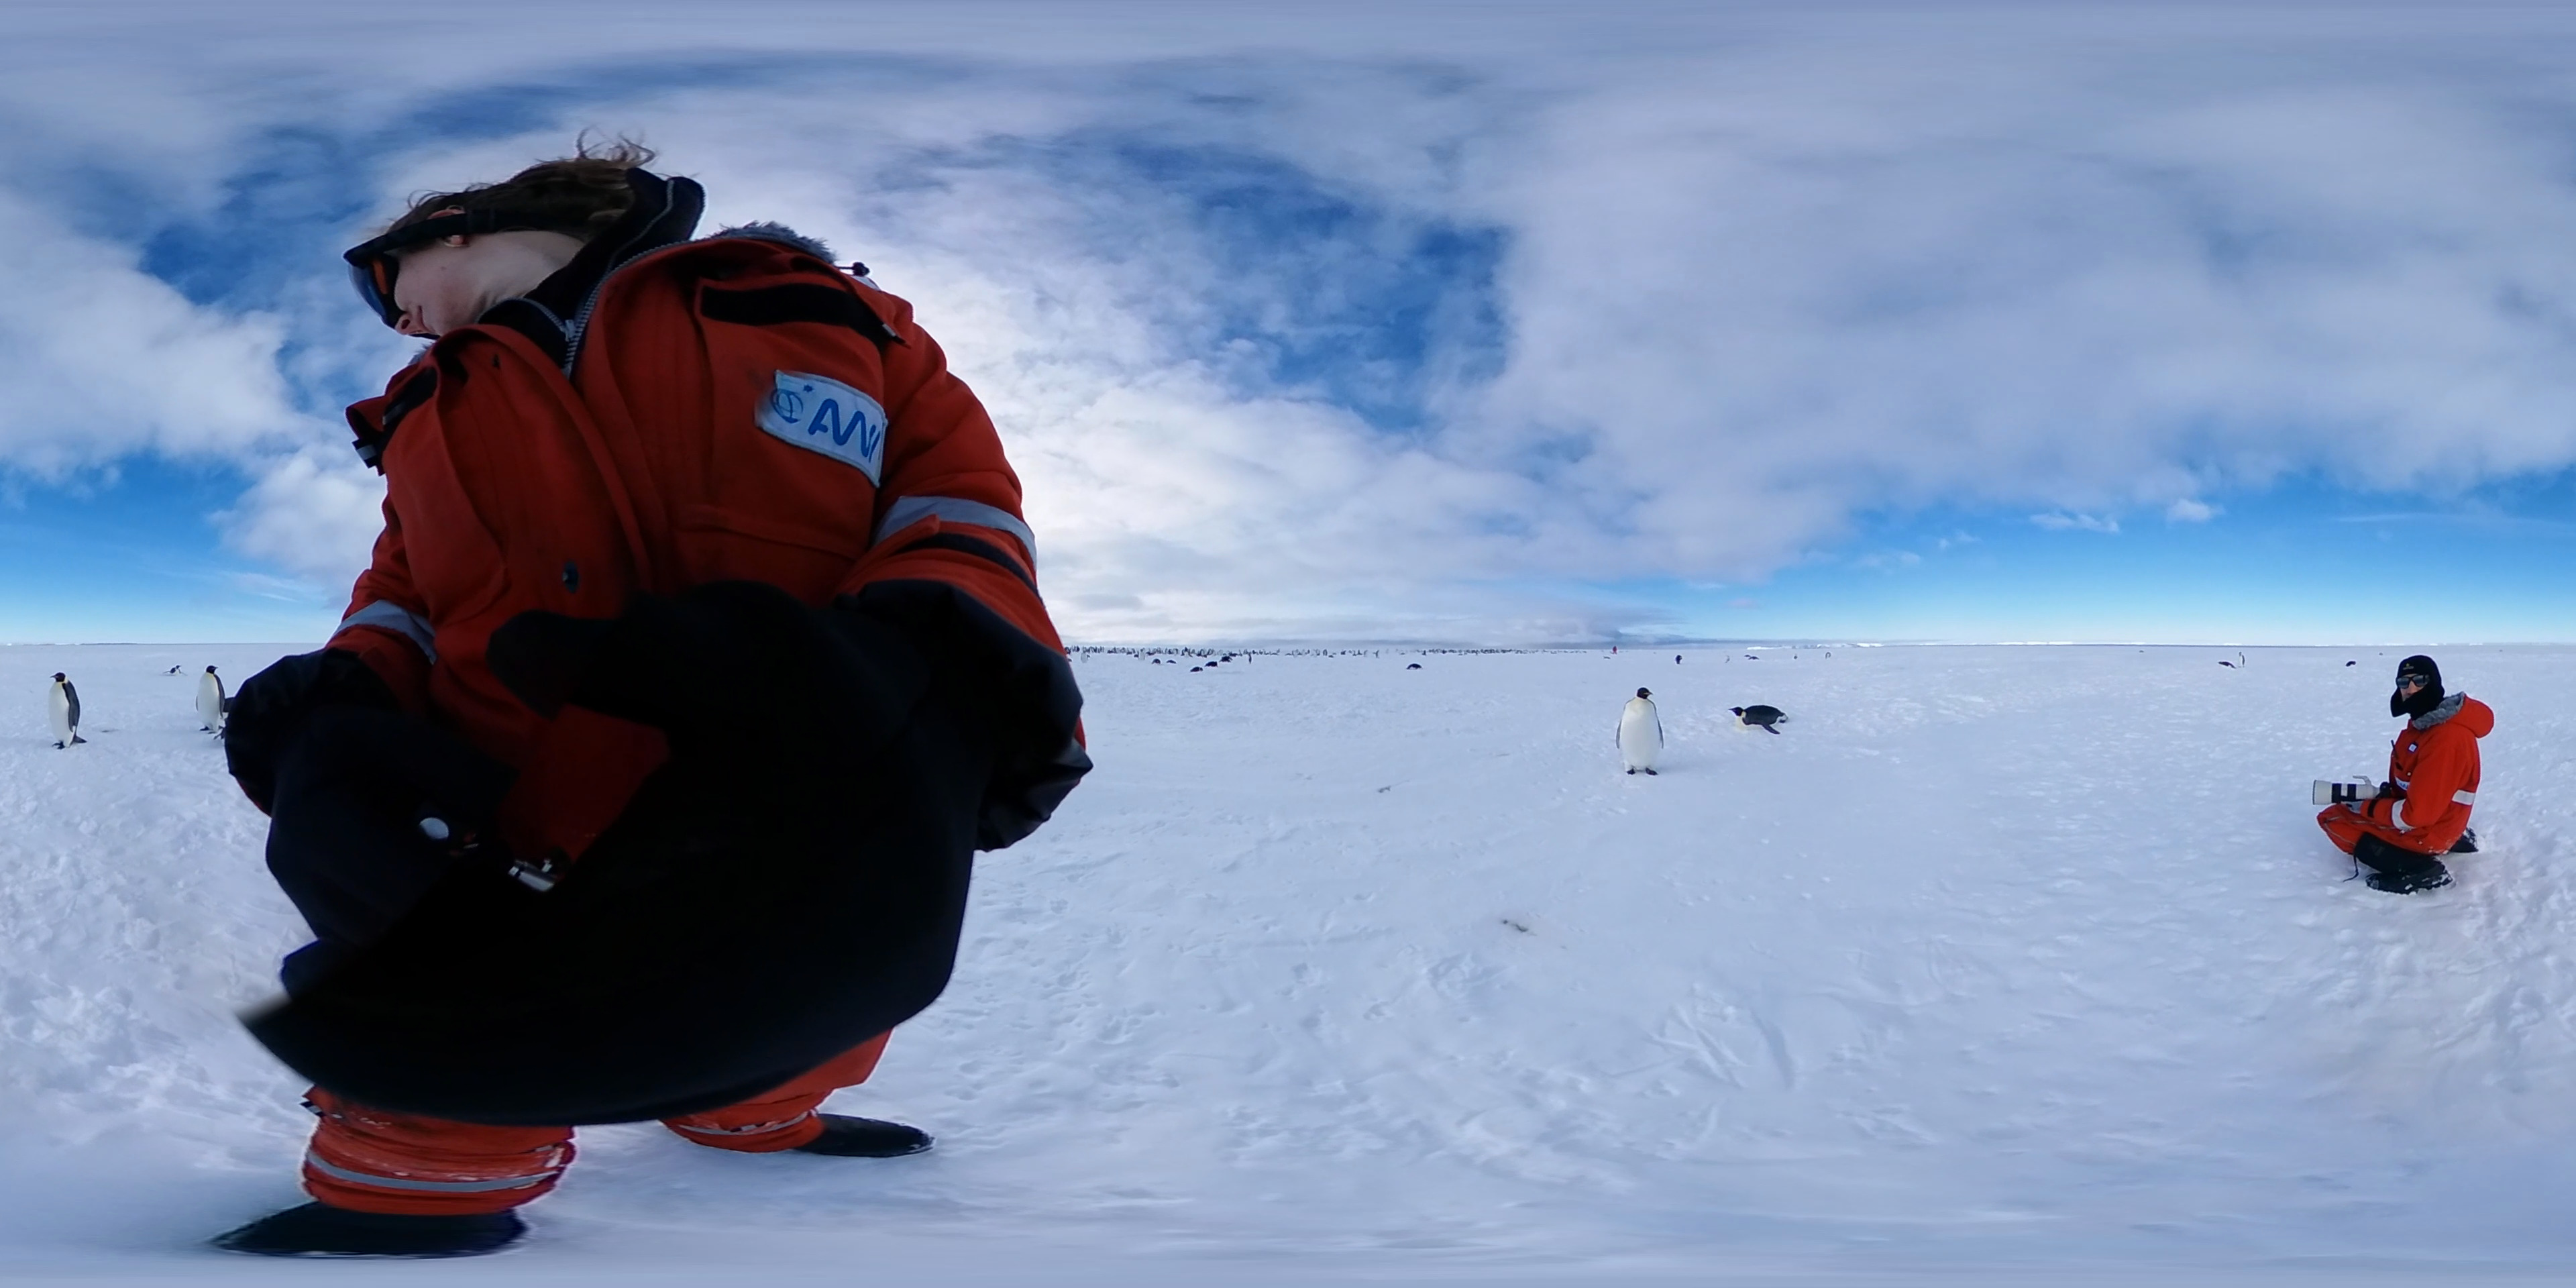adult_standing_penguin: (1615, 683, 1669, 779), (44, 670, 97, 754), (192, 665, 230, 736)
adult_toboggan_penguin: (1727, 703, 1792, 738), (161, 660, 189, 677), (1405, 660, 1426, 670), (2215, 660, 2236, 667), (1189, 665, 1204, 674)
researcher: (250, 136, 1071, 1273), (2311, 654, 2494, 897)
